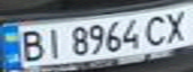4: (121, 16, 145, 51)
6: (103, 18, 127, 53)
8: (66, 22, 90, 56)
9: (84, 21, 109, 55)
B: (12, 27, 48, 62)
C: (139, 11, 172, 47)
I: (39, 25, 69, 60)
X: (160, 7, 193, 43)
